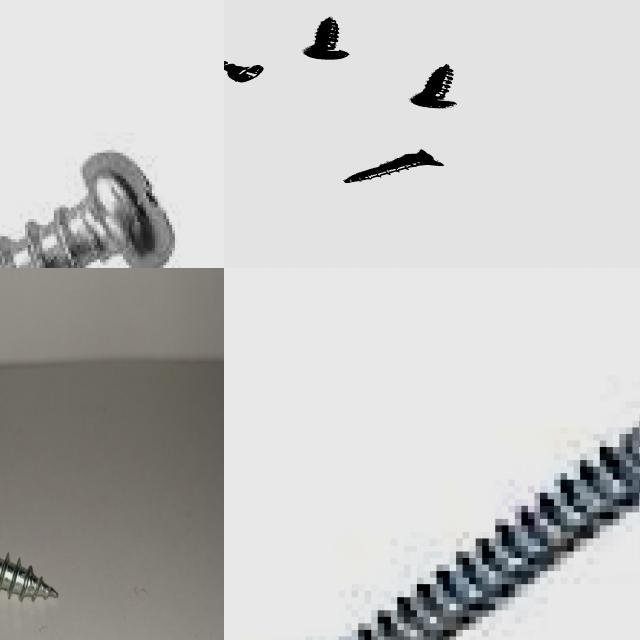Screw: (344, 426, 640, 640), (0, 150, 175, 268), (345, 150, 445, 183), (0, 553, 58, 601), (412, 65, 458, 108), (304, 17, 350, 59), (224, 61, 265, 82)
